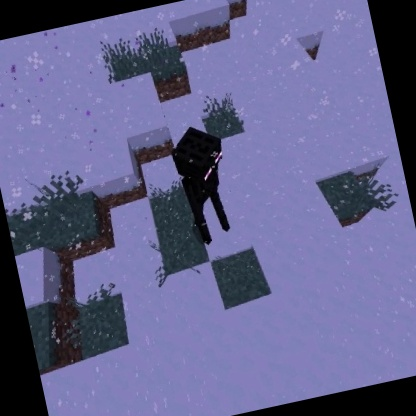enderman: (164, 117, 246, 251)
